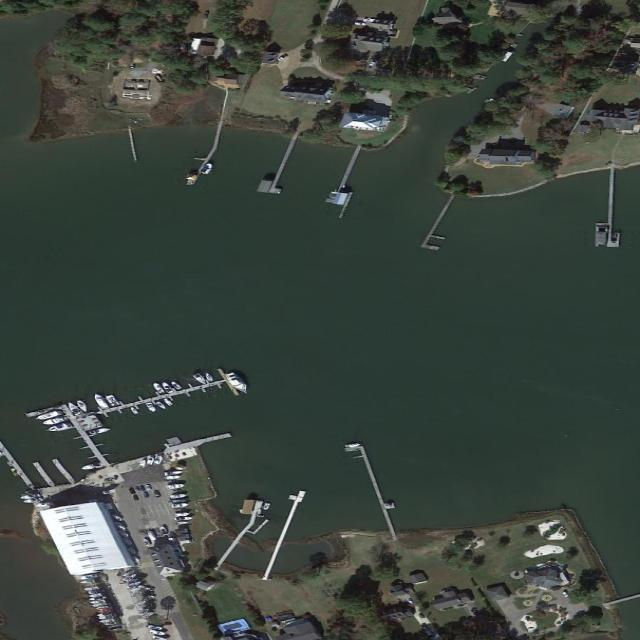ship: (223, 371, 255, 395), (89, 392, 112, 412), (31, 409, 65, 422), (40, 415, 73, 428), (45, 422, 76, 434), (79, 460, 107, 472), (62, 401, 83, 416), (159, 380, 178, 395), (74, 398, 92, 413), (151, 382, 169, 397), (199, 162, 217, 177), (192, 373, 211, 386), (18, 490, 43, 499), (75, 417, 92, 430), (105, 395, 123, 407), (88, 427, 111, 436), (21, 496, 44, 504), (144, 401, 159, 413), (164, 482, 186, 490), (154, 400, 170, 411), (100, 487, 119, 496), (89, 415, 103, 427), (168, 492, 188, 500), (204, 371, 218, 382), (342, 442, 363, 449), (130, 584, 146, 593), (120, 569, 138, 577), (128, 406, 142, 416), (89, 594, 109, 601), (126, 581, 143, 589), (123, 573, 138, 582), (148, 629, 167, 636), (153, 454, 165, 465), (172, 380, 185, 390), (162, 469, 183, 475), (97, 613, 115, 620), (78, 574, 99, 580), (98, 618, 118, 624), (101, 621, 120, 627), (96, 611, 115, 617), (147, 624, 165, 630), (163, 398, 175, 407), (171, 502, 188, 508), (173, 511, 190, 517), (92, 602, 109, 608), (80, 579, 97, 585), (83, 585, 100, 591), (173, 516, 193, 521), (95, 605, 111, 611), (164, 475, 182, 480), (87, 589, 105, 594), (147, 457, 156, 466), (137, 460, 147, 468), (91, 599, 107, 604), (89, 593, 105, 597), (263, 503, 272, 510), (176, 520, 189, 524)
small-vehicle: (130, 555, 146, 566), (114, 521, 130, 531), (118, 528, 134, 538), (140, 538, 154, 549), (118, 536, 135, 545), (111, 512, 125, 522), (125, 546, 140, 555), (146, 531, 159, 541), (152, 490, 164, 499), (561, 590, 572, 599), (131, 493, 142, 502), (159, 526, 169, 535), (128, 486, 137, 496), (142, 491, 152, 499), (139, 484, 146, 492), (146, 483, 153, 491)
